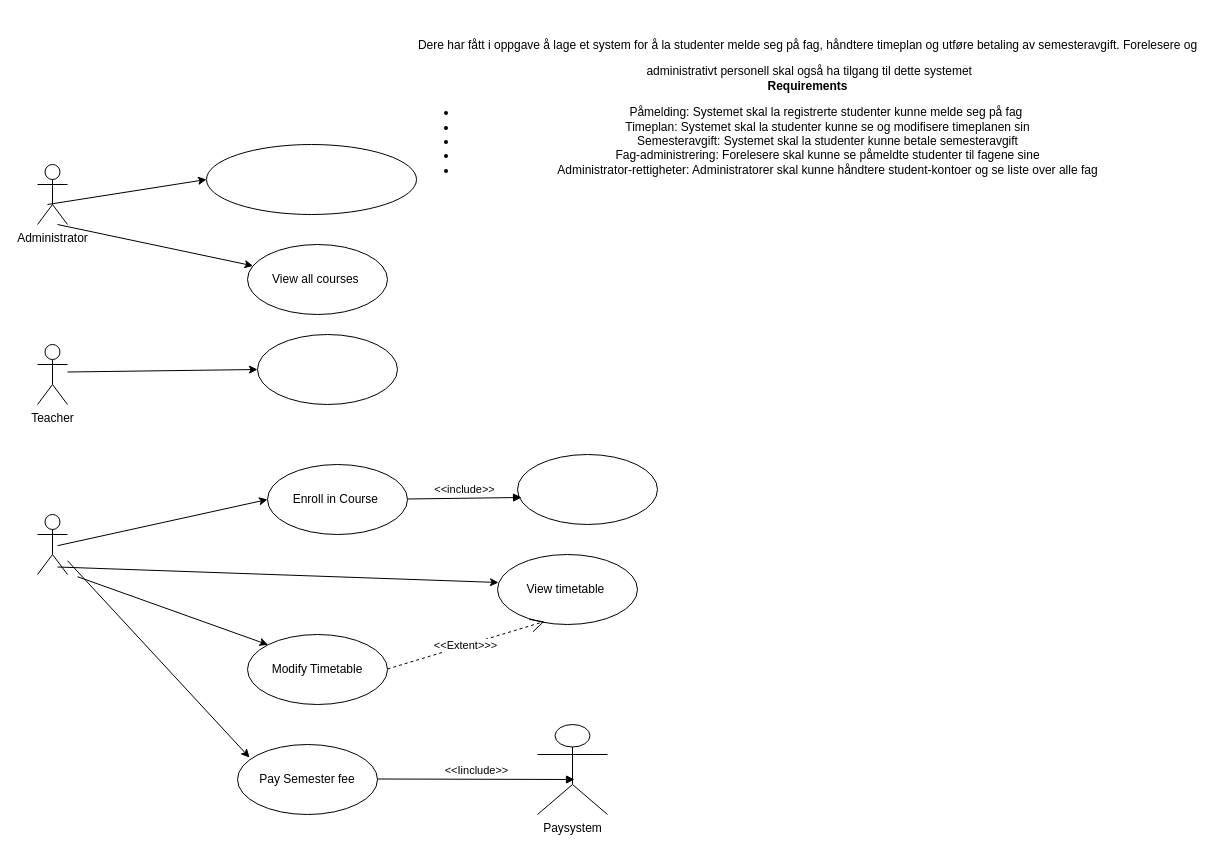
The diagram is 1225 pixels wide and 852 high, and some of its shapes have lost their labels. Here are the shapes that lost their labels. From the top down, the centre of each, then its label:
At (311,179): "Manage Student Accounts".
At (327,369): "View Endroled Courses".
At (587,489): "View Course list".
At (52,544): "Student".
